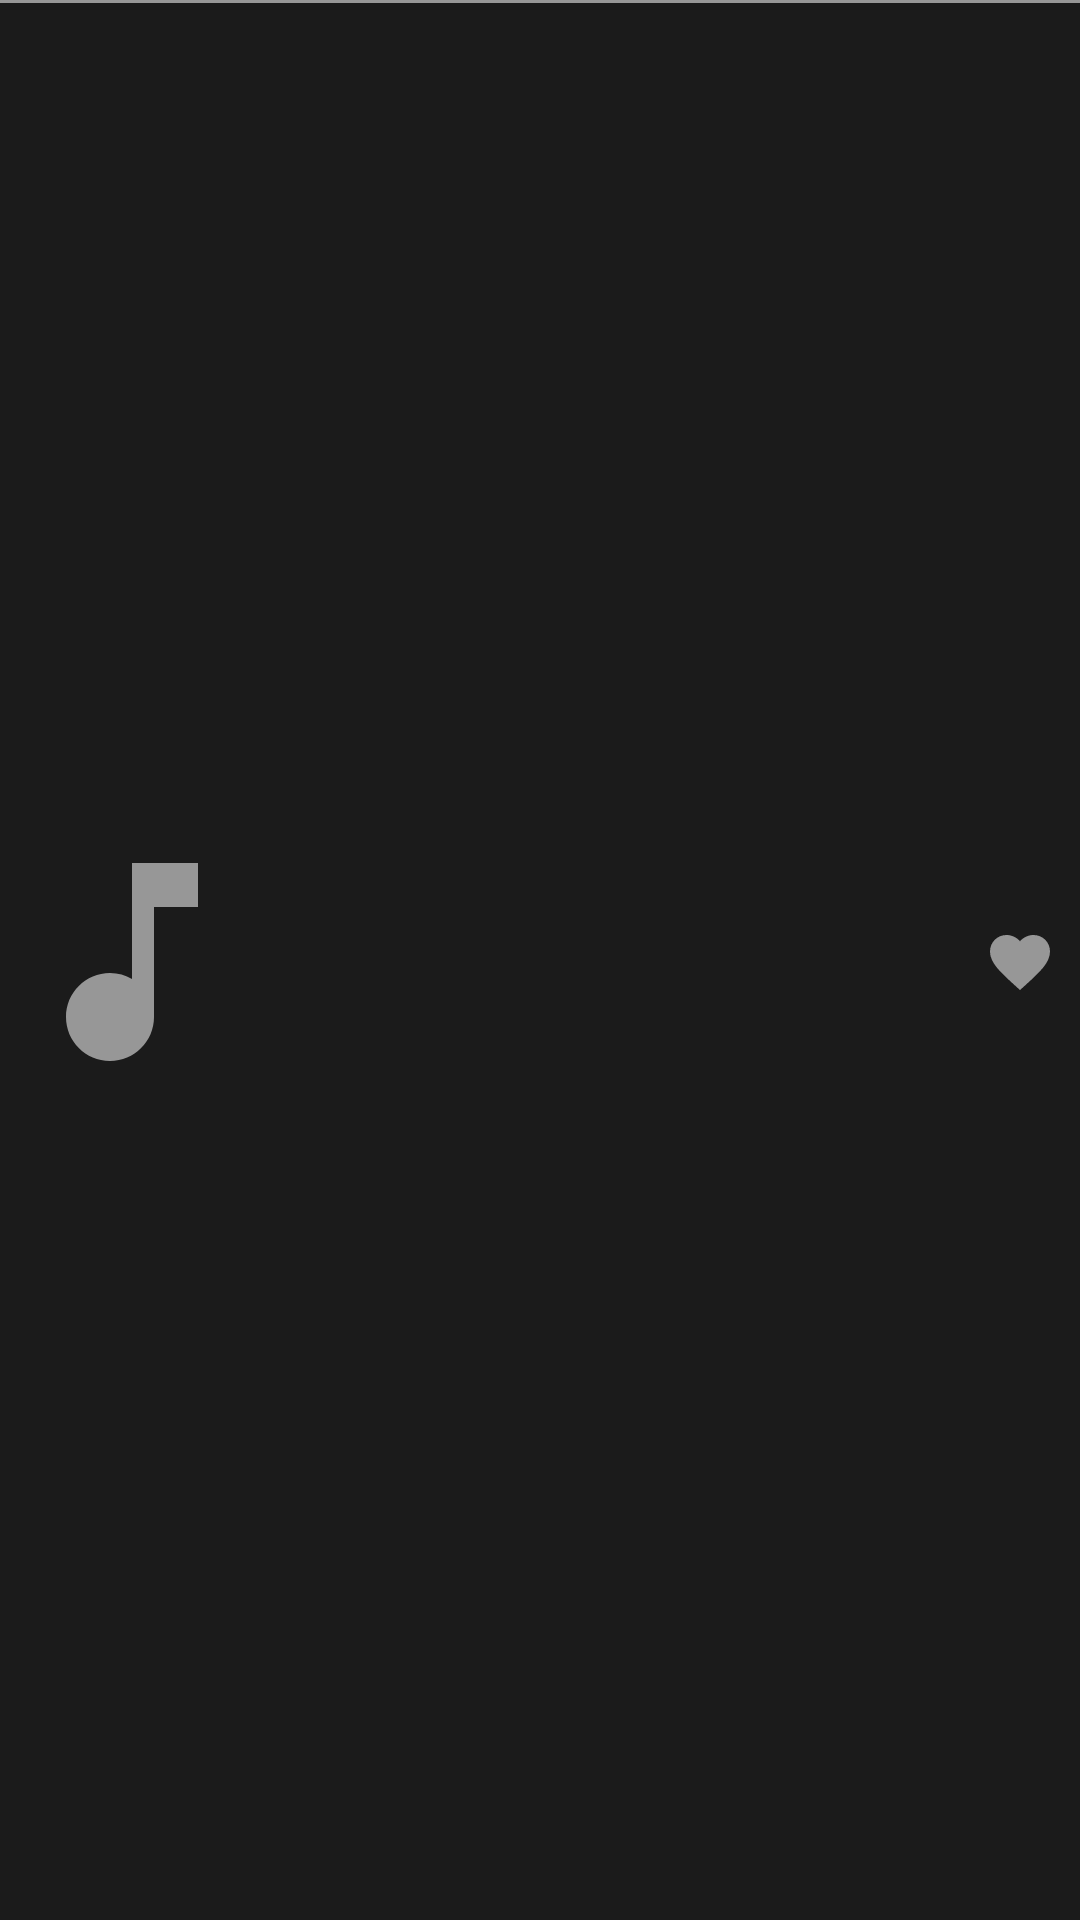

Icon bounding boxes for this 1080px×1920px phone screenshot, format {"left": x1, "top": y1, "right": x2, "bottom": y2}:
Add to Favourites: {"left": 990, "top": 935, "right": 1050, "bottom": 990}
Song Image: {"left": 66, "top": 863, "right": 198, "bottom": 1061}
